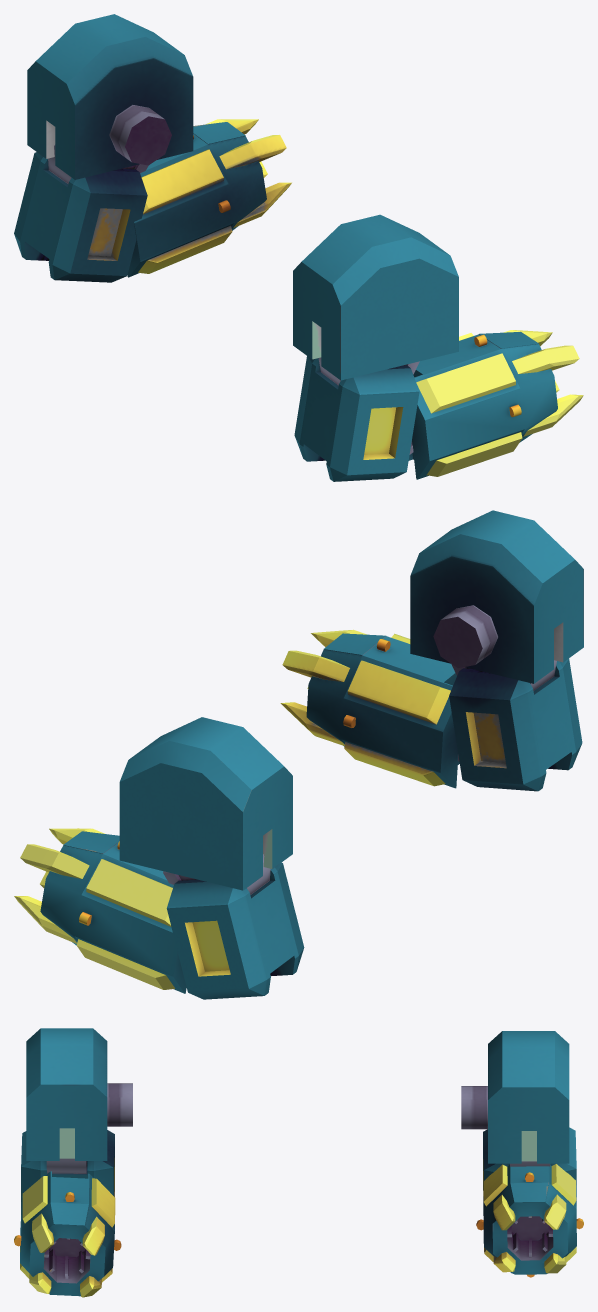
The model's file is Player_Attack_Arm4.obj.
3 renders of one model, top to bottom at view 1: azimuth 30°, elevation 25°; view 2: azimuth 150°, elevation 25°; view 3: azimuth 270°, elevation 25°, orthographic. The views are drawn at different scales.
Parts seen in each view (by area): view 1: Object005, Object003, Object001, Object007, Object006, Object002; view 2: Object003, Object005, Object001, Object007, Object006, Object002; view 3: Object005, Object003, Object001, Object007, Object002, Object006.
Boxes of the visible parts, x1,y1,x2,y2 form: Object005: [27, 14, 193, 179]; Object003: [293, 214, 458, 380]; Object001: [408, 330, 583, 479]; Object007: [127, 119, 291, 277]; Object006: [14, 144, 148, 282]; Object002: [294, 356, 419, 481]; Object003: [410, 510, 583, 683]; Object005: [119, 717, 292, 890]; Object001: [280, 629, 459, 788]; Object007: [14, 828, 186, 993]; Object006: [163, 854, 304, 999]; Object002: [449, 658, 582, 791]; Object005: [461, 1031, 569, 1163]; Object003: [26, 1028, 132, 1160]; Object001: [14, 1171, 121, 1297]; Object007: [476, 1164, 583, 1277]; Object002: [21, 1130, 114, 1214]; Object006: [483, 1127, 576, 1204].
Size of the model in its own units: 37.57 by 34.27 by 83.71.
1 material, 1 textured.
